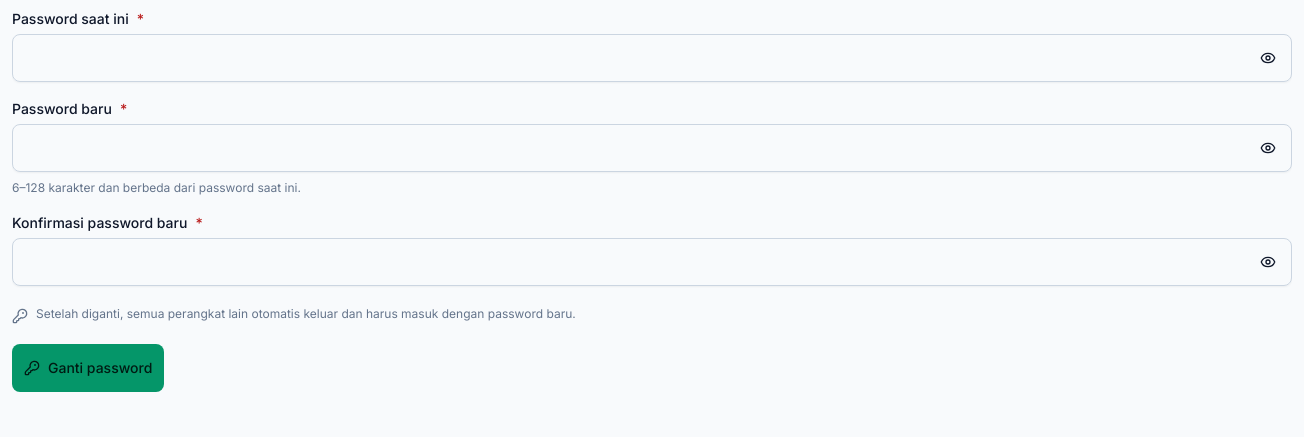
Test: client-side checks (no request sent) › mismatched confirmation
Type "synthetic-old-password" into the password field labelled "Password saat ini *" at (652, 58), box [12,34,1292,82]
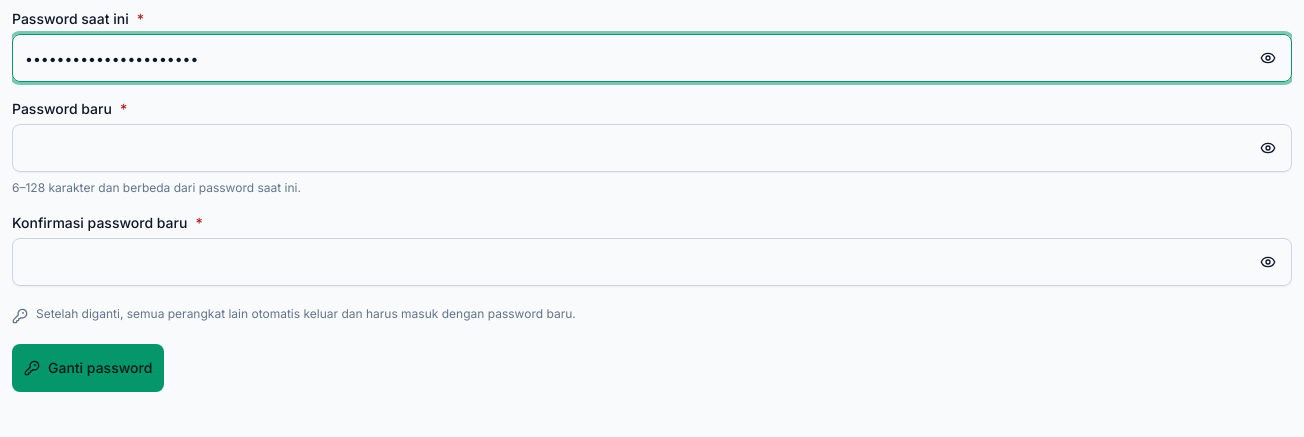
Type "synthetic-new-password" into the password field labelled "Password baru *" at (652, 148), box [12,124,1292,172]
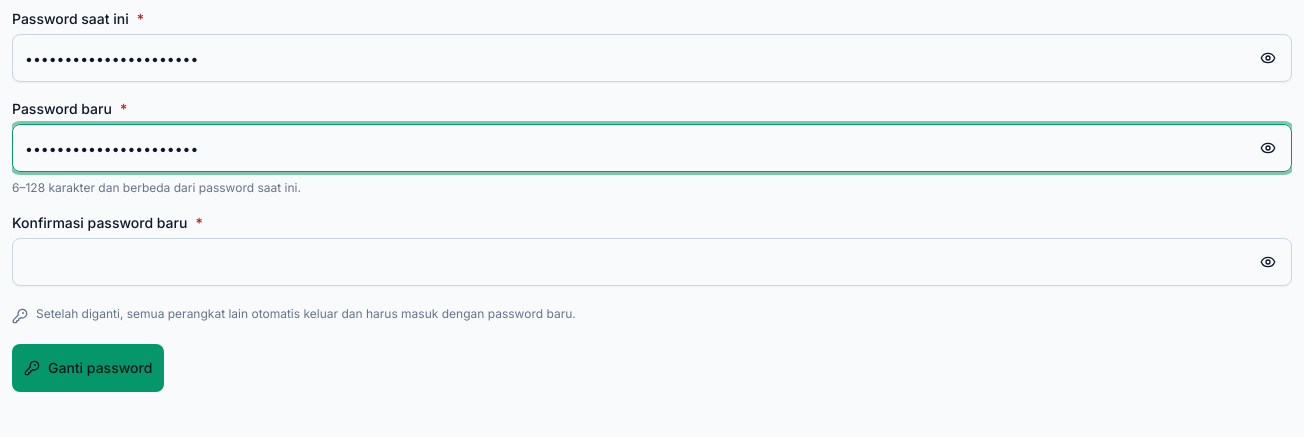
Type "synthetic-other-password" into the password field labelled "Konfirmasi password baru *" at (652, 262), box [12,238,1292,286]
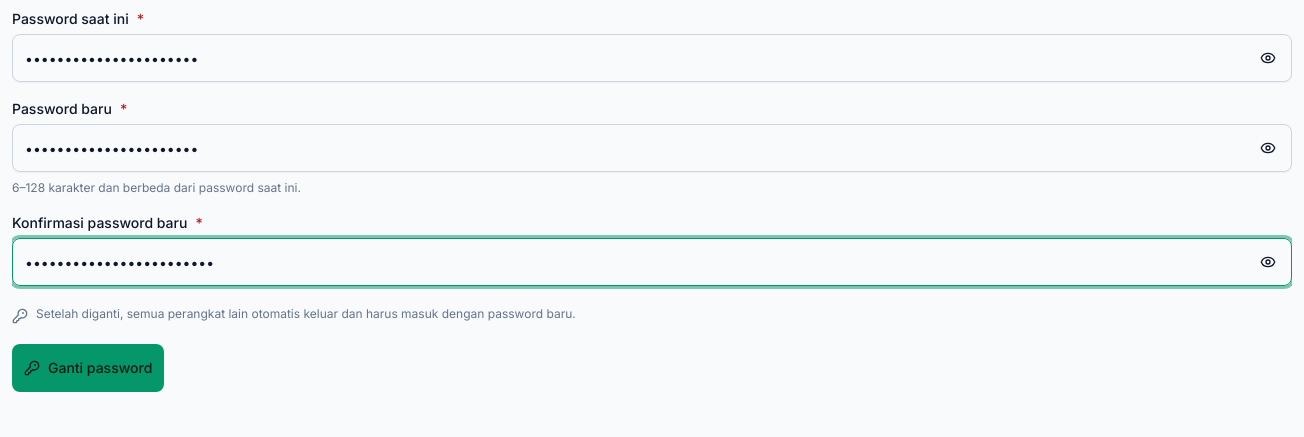
Click the button "Ganti password" at (88, 368), box [12,344,164,392]
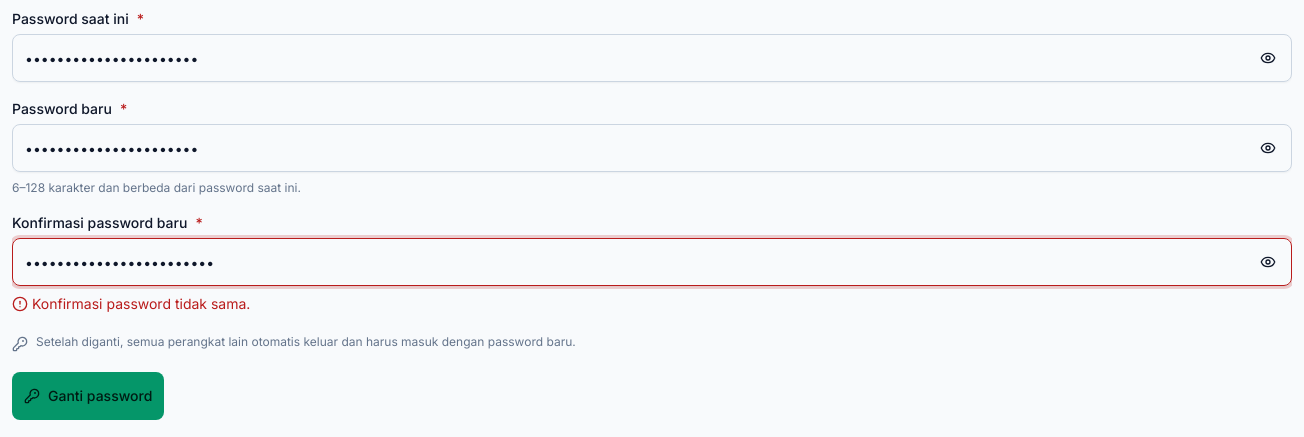
Check: the element showing "Konfirmasi password tidak sama." is shown, box [12,295,250,312]
